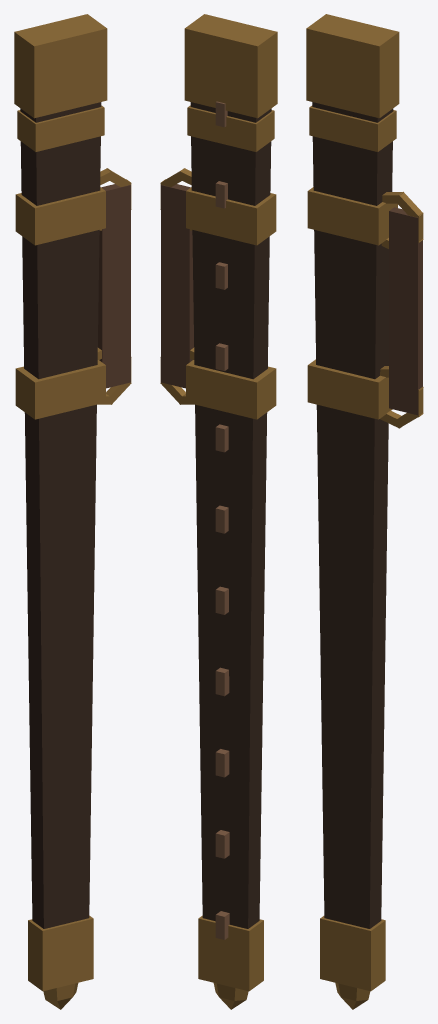
Rendered from mdvl_weapons_scabbard_01.glb.
3 renders of one model, left to right at view 1: azimuth 30°, elevation 25°; view 2: azimuth 150°, elevation 25°; view 3: azimuth 330°, elevation 25°, orthographic.
Parts seen in each view (by area): view 1: mdvl_weapons_scabbard_01; view 2: mdvl_weapons_scabbard_01; view 3: mdvl_weapons_scabbard_01.
Part boxes in pixels (x1,y1,x2,y2): mdvl_weapons_scabbard_01: [14, 14, 131, 1009]; mdvl_weapons_scabbard_01: [160, 14, 277, 1009]; mdvl_weapons_scabbard_01: [306, 14, 423, 1009].
Bounding box in the file's own units: 0.0948 × 0.844 × 0.0325.
Materials: 1 (1 with a texture image).
